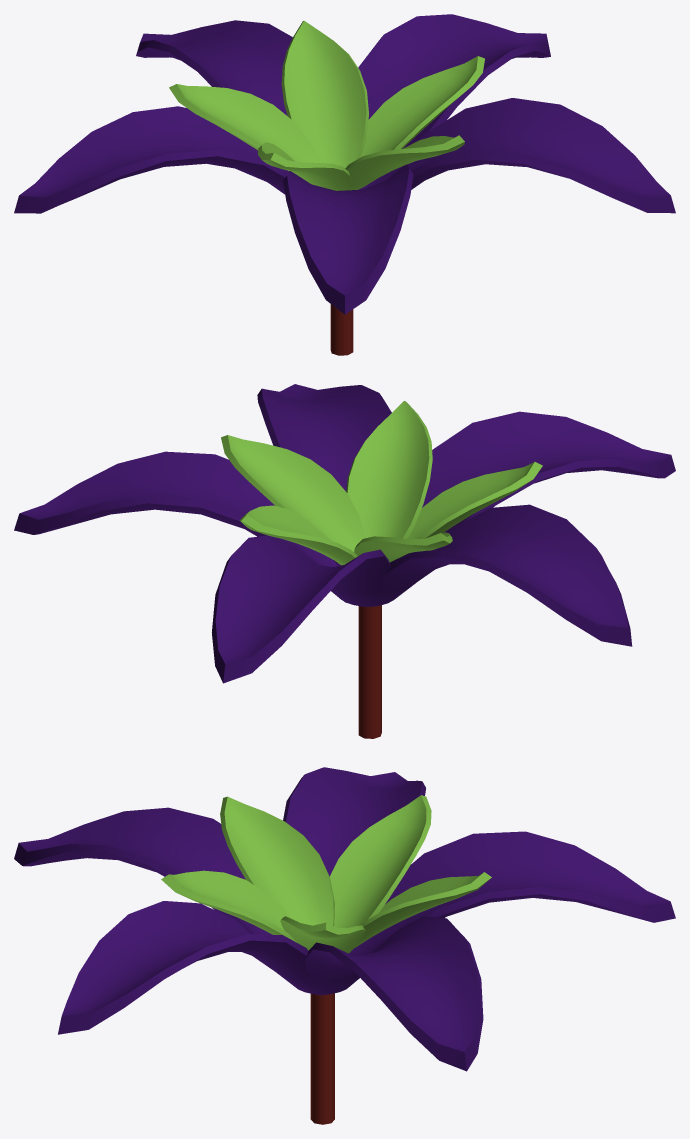
Rendered from Flower1.fbx.
3 renders of one model, top to bottom at view 1: azimuth 30°, elevation 25°; view 2: azimuth 150°, elevation 25°; view 3: azimuth 270°, elevation 25°, orthographic. The views are drawn at different scales.
Visible parts, largest first — view 1: Flower1; view 2: Flower1; view 3: Flower1.
Part boxes in pixels (<box>): Flower1: <box>14,14,675,355</box>; Flower1: <box>14,384,675,738</box>; Flower1: <box>14,767,675,1124</box>.
Bounding box in the file's own units: 176 × 77.64 × 174.
